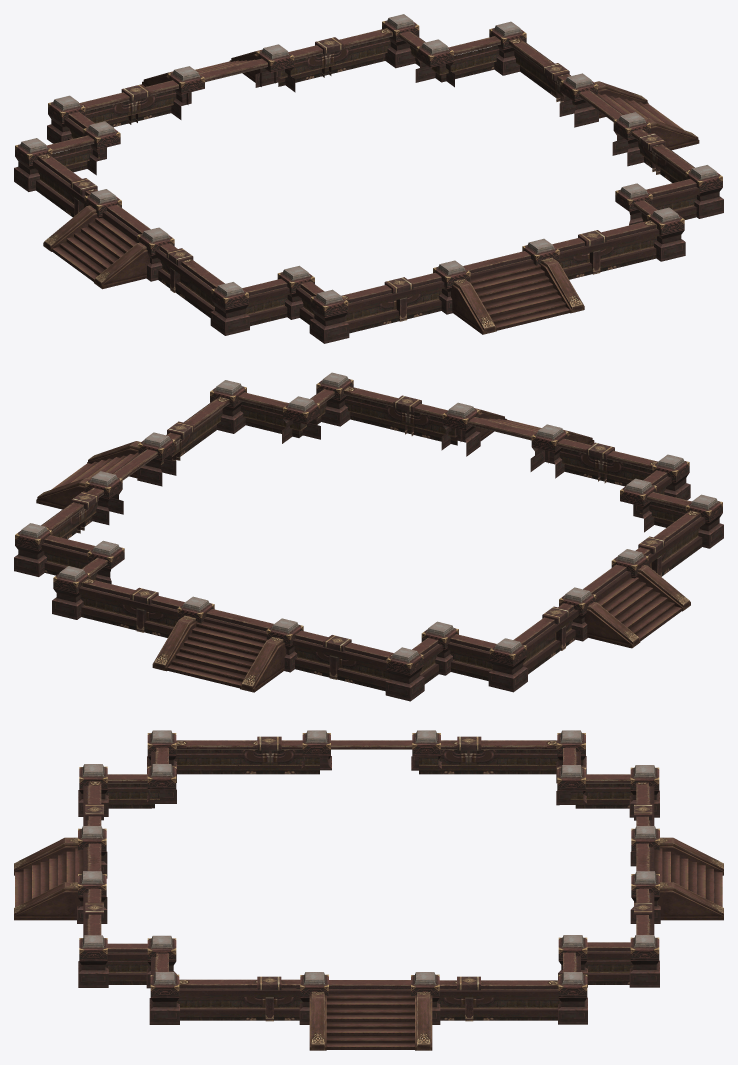
Rendered from Item_3001_wujian002_taizidbian.FBX.
3 views of the same model, one above another, from view 1: azimuth 30°, elevation 25°; view 2: azimuth 150°, elevation 25°; view 3: azimuth 270°, elevation 25° (orthographic). The views are drawn at different scales.
Visible parts, largest first — view 1: Item_3001_wujian002_taizidbian; view 2: Item_3001_wujian002_taizidbian; view 3: Item_3001_wujian002_taizidbian.
Boxes of the visible parts, x1,y1,x2,y2 form: Item_3001_wujian002_taizidbian: (14,14,723,343); Item_3001_wujian002_taizidbian: (14,372,723,701); Item_3001_wujian002_taizidbian: (14,730,723,1050).
Size of the model in its own units: 2910 by 190 by 2877.
